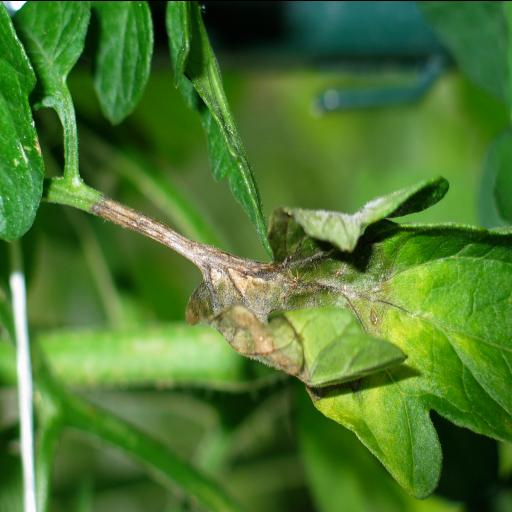Late Blight: (170, 181, 512, 505)
